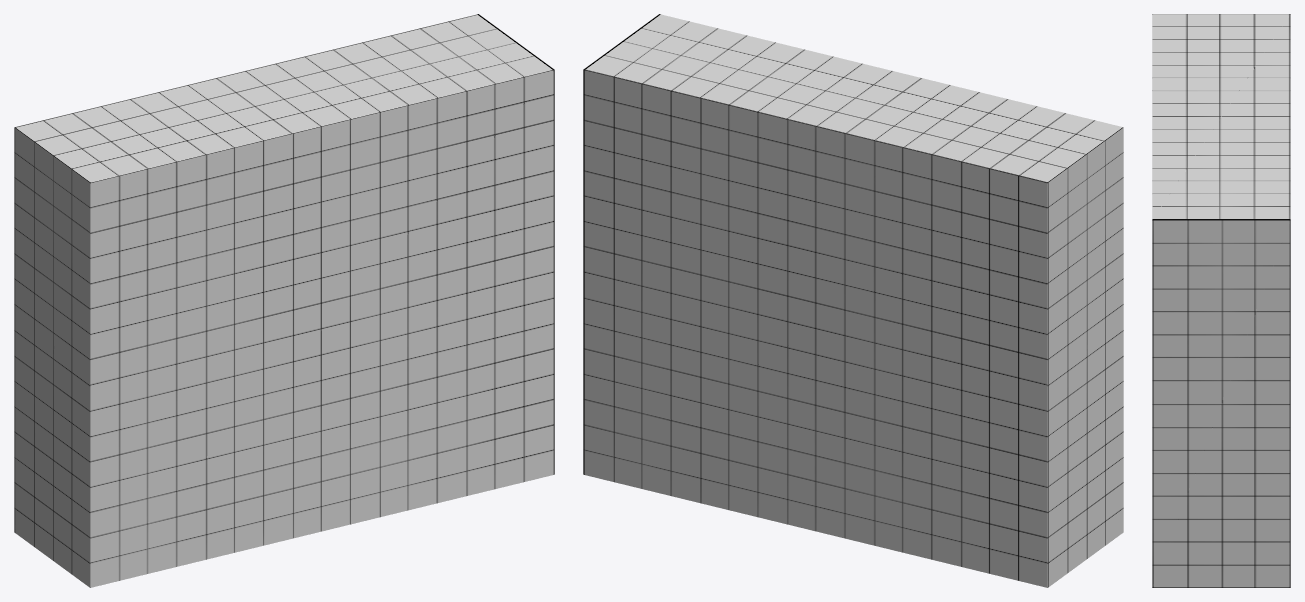
The model's file is Dark_Wall_ThickSide.fbx.
3 views of the same model, side by side, from view 1: azimuth 30°, elevation 25°; view 2: azimuth 150°, elevation 25°; view 3: azimuth 270°, elevation 25° (orthographic). The views are drawn at different scales.
Parts seen in each view (by area): view 1: Dark_Wall_Thick.001; view 2: Dark_Wall_Thick.001; view 3: Dark_Wall_Thick.001.
Boxes of the visible parts, <box> form: Dark_Wall_Thick.001: <box>14,14,554,587</box>; Dark_Wall_Thick.001: <box>583,14,1123,587</box>; Dark_Wall_Thick.001: <box>1152,14,1290,587</box>.
Bounding box in the file's own units: 180 × 150 × 51.
Materials: 1 (1 with a texture image).
